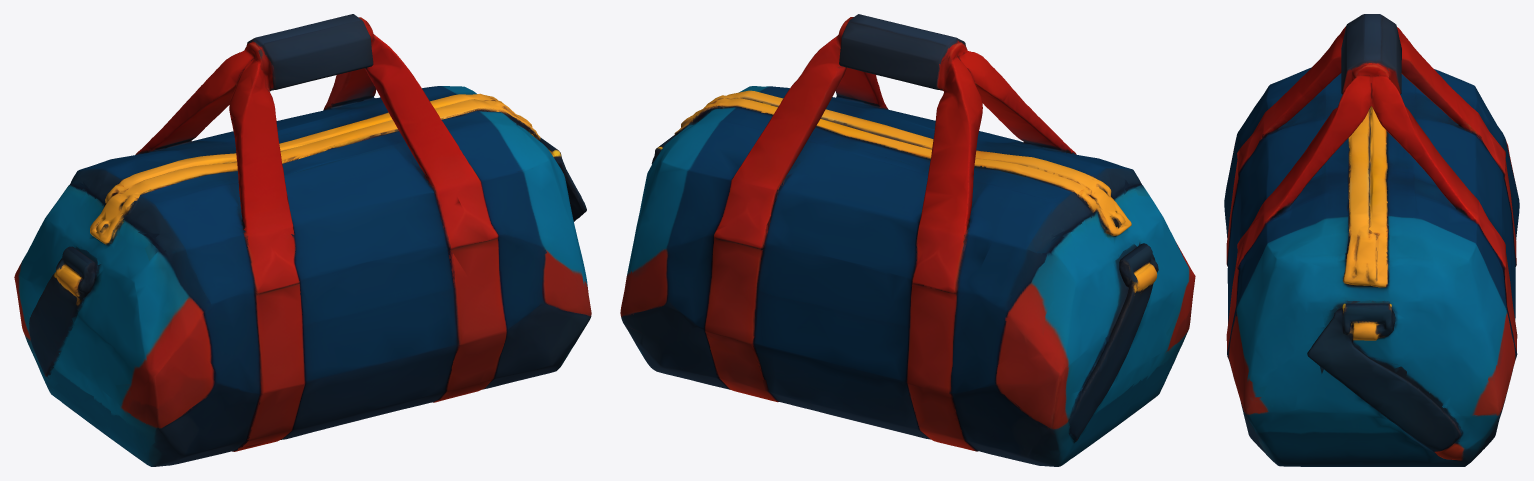
The model's file is color_bag_lod.glb.
The picture shows the model from 3 angles, left to right: view 1: azimuth 30°, elevation 25°; view 2: azimuth 150°, elevation 25°; view 3: azimuth 270°, elevation 25°; orthographic projection. The views are drawn at different scales.
Parts seen in each view (by area): view 1: world; view 2: world; view 3: world.
Part boxes in pixels (x1,y1,x2,y2): world: [14, 14, 591, 466]; world: [620, 14, 1195, 466]; world: [1224, 14, 1519, 466].
Bounding box in the file's own units: 1 × 0.6967 × 0.5482.
1 material, 1 textured.
